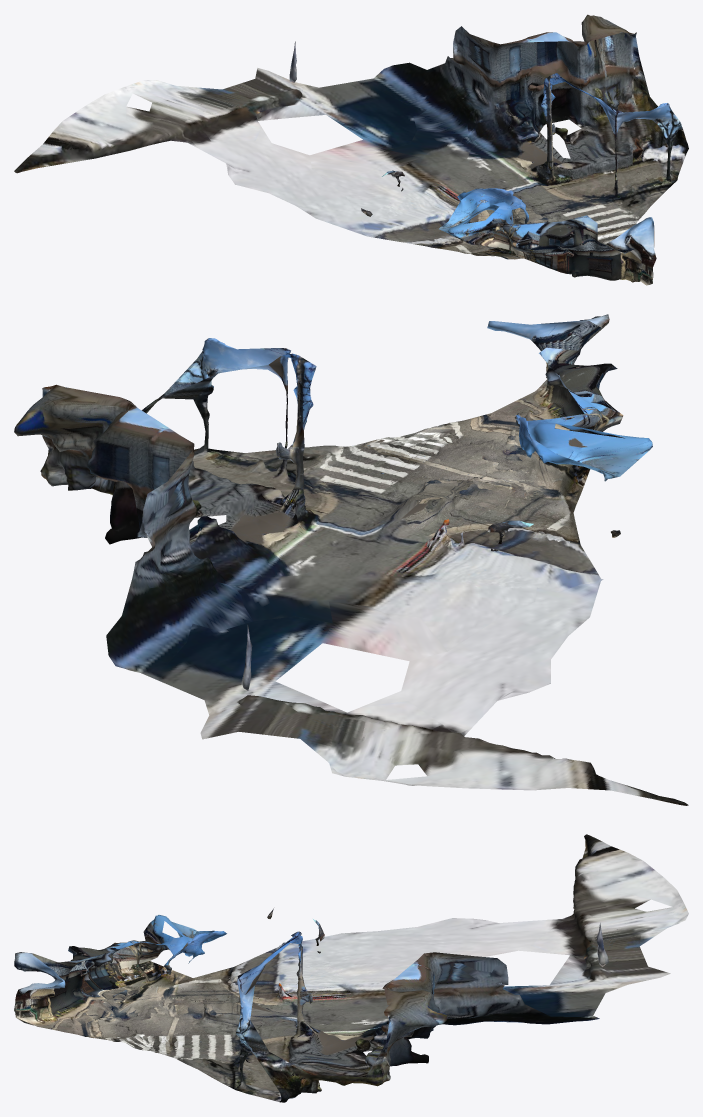
File: 瓜生町危険箇所写真-edit.glb
The picture shows the model from 3 angles, top to bottom: view 1: azimuth 30°, elevation 25°; view 2: azimuth 150°, elevation 25°; view 3: azimuth 270°, elevation 25°; orthographic projection. The views are drawn at different scales.
Visible parts, largest first — view 1: baked_mesh; view 2: baked_mesh; view 3: baked_mesh.
Boxes of the visible parts, left/top/right/bottom form: baked_mesh: left=14, top=14, right=688, bottom=285; baked_mesh: left=14, top=314, right=688, bottom=805; baked_mesh: left=14, top=834, right=688, bottom=1102.
Size of the model in its own units: 5.28 by 1.08 by 5.59.
1 material, 1 textured.
